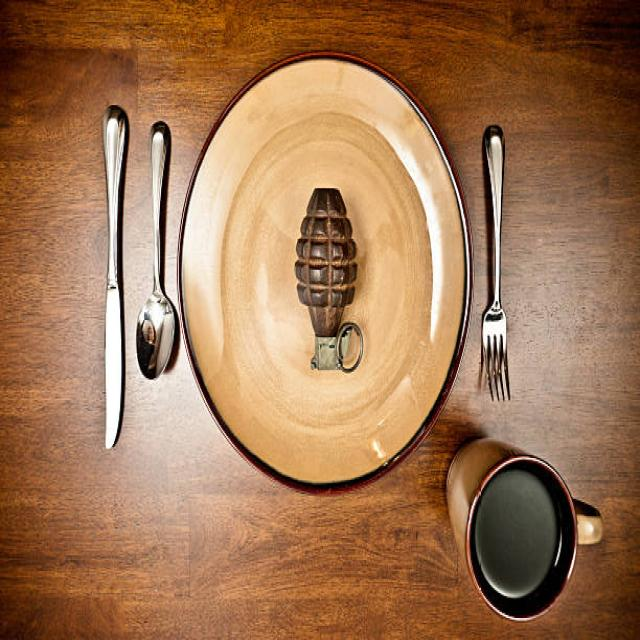grenade: (289, 181, 372, 381)
